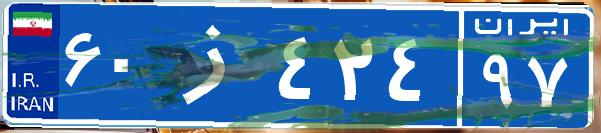0: (110, 28, 158, 105)
2: (330, 28, 385, 110)
4: (385, 28, 445, 110), (273, 28, 330, 110)
6: (57, 26, 110, 107)
7: (525, 38, 570, 115)
9: (475, 38, 525, 113)
ز: (158, 15, 273, 115)
